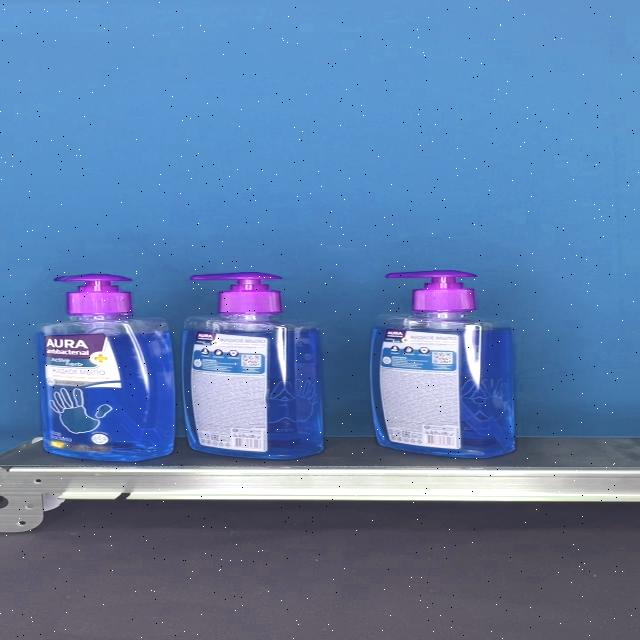Bottle: (368, 269, 515, 459), (180, 272, 324, 459), (41, 273, 176, 461)
Cap: (191, 271, 283, 314), (386, 270, 478, 312), (52, 273, 132, 314)
